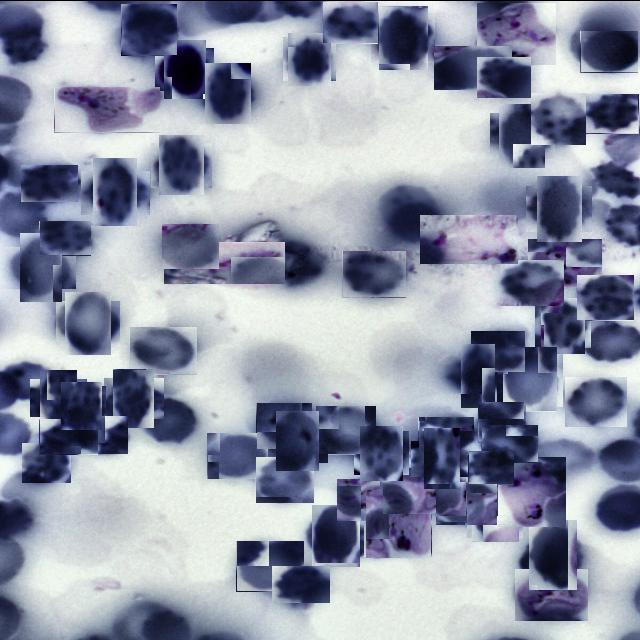red blood cell: (500, 349, 560, 409), (236, 540, 304, 591), (434, 45, 512, 89), (524, 524, 582, 583), (375, 8, 432, 66), (129, 326, 197, 374), (88, 163, 144, 220), (531, 180, 587, 236), (308, 507, 364, 563), (13, 239, 69, 295), (565, 376, 627, 426), (495, 107, 550, 163), (336, 478, 407, 521), (342, 250, 406, 297), (61, 296, 116, 350), (500, 259, 564, 305), (316, 405, 376, 454), (201, 66, 255, 120), (206, 432, 268, 479), (121, 3, 177, 55), (531, 92, 586, 144), (155, 138, 208, 191), (255, 456, 314, 503), (142, 398, 202, 444), (435, 481, 497, 525), (272, 414, 324, 466), (469, 488, 522, 539), (576, 274, 634, 320), (256, 402, 312, 449), (159, 43, 210, 94), (162, 223, 219, 268), (538, 299, 588, 350), (109, 372, 160, 422), (454, 350, 504, 400), (387, 201, 446, 243), (580, 30, 638, 72), (357, 428, 406, 477), (418, 433, 467, 482), (322, 1, 378, 43), (286, 34, 334, 82), (35, 373, 82, 421), (477, 56, 531, 97), (471, 330, 525, 371), (20, 164, 78, 202), (584, 93, 639, 133), (418, 416, 474, 455), (481, 424, 538, 462), (272, 565, 330, 602), (39, 418, 98, 454), (74, 415, 128, 454), (59, 383, 104, 428), (478, 401, 526, 442), (22, 442, 71, 482), (39, 220, 91, 255), (536, 304, 579, 344), (468, 450, 514, 484)
ring: (477, 2, 556, 64)
trophozoite: (164, 241, 286, 284), (54, 86, 160, 132), (420, 214, 518, 263), (498, 456, 566, 526), (364, 489, 432, 556), (383, 467, 466, 513), (515, 568, 588, 620), (527, 238, 602, 288)
